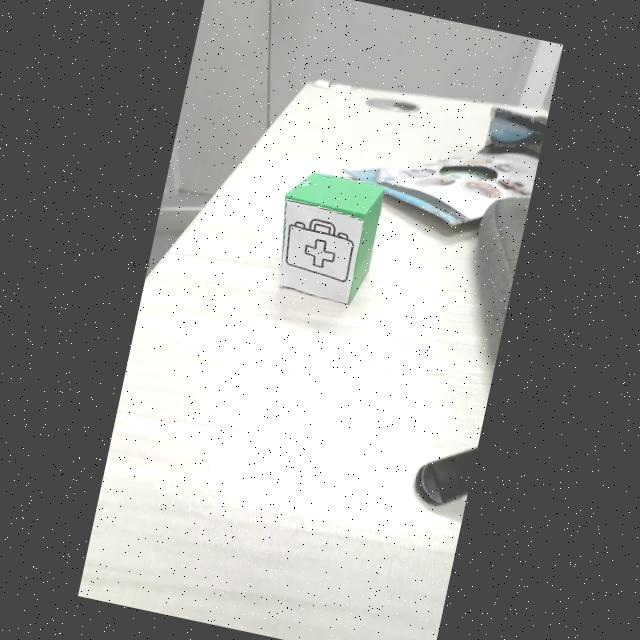Medkit: (285, 220, 353, 282)
